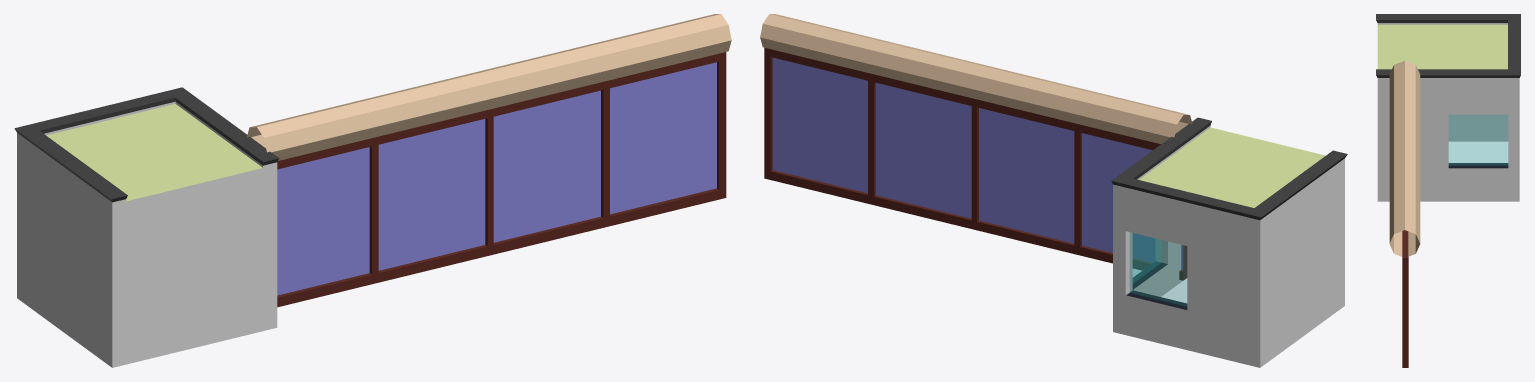
Rendered from checkpoint.gltf.
The picture shows the model from 3 angles, left to right: view 1: azimuth 30°, elevation 25°; view 2: azimuth 150°, elevation 25°; view 3: azimuth 270°, elevation 25°; orthographic projection. The views are drawn at different scales.
Visible parts, largest first — view 1: Gate, Building, Barbwire; view 2: Gate, Building, Barbwire; view 3: Building, Barbwire, Gate.
Part boxes in pixels (box(x1,y1,x2,y2)): Gate: box(277, 52, 726, 307); Building: box(14, 87, 279, 367); Barbwire: box(247, 14, 731, 160); Gate: box(764, 47, 1187, 280); Building: box(1111, 117, 1347, 367); Barbwire: box(760, 14, 1192, 143); Building: box(1376, 14, 1520, 201); Barbwire: box(1389, 61, 1420, 256); Gate: box(1402, 230, 1408, 367).
Size of the model in its own units: 35.35 by 10.03 by 9.4.
